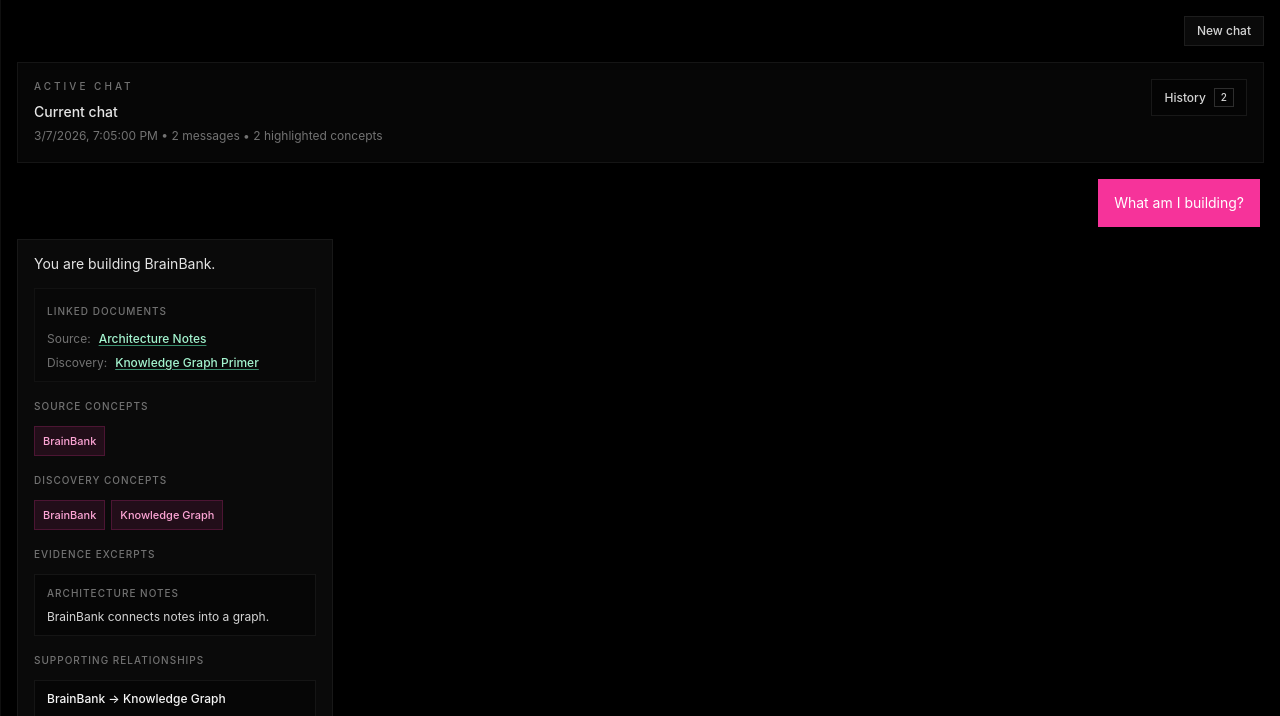
Test: ChatPanel › shows chat history only after the history toggle is opened
Expected: the text "Recent chats" is not shown
Expected: the button "Earlier chat" is not shown
Click the button with aria-label "Toggle chat history" at (1199, 98), box [1152,79,1247,116]
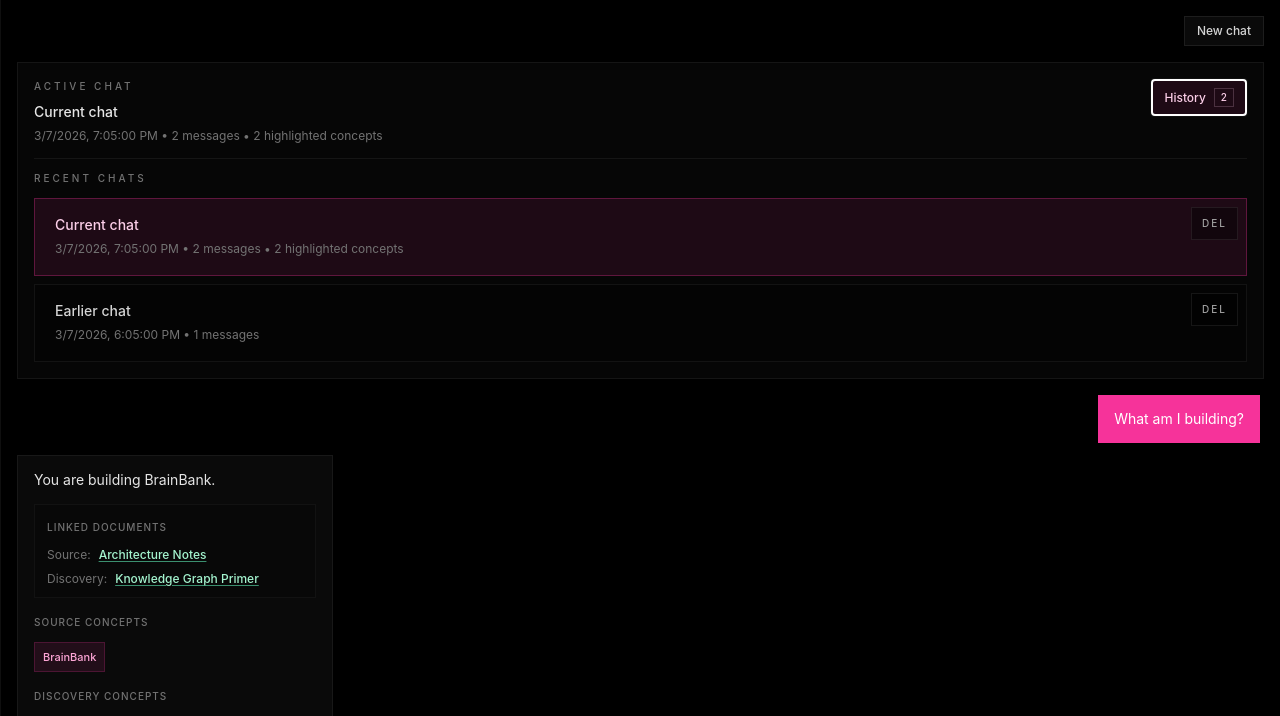
Now the text "Recent chats" is shown, box [34,172,147,184]
Now the button "Earlier chat" is shown, box [43,293,1183,353]
Now the button with aria-label "Toggle chat history" is expanded, box [1152,79,1247,116]
